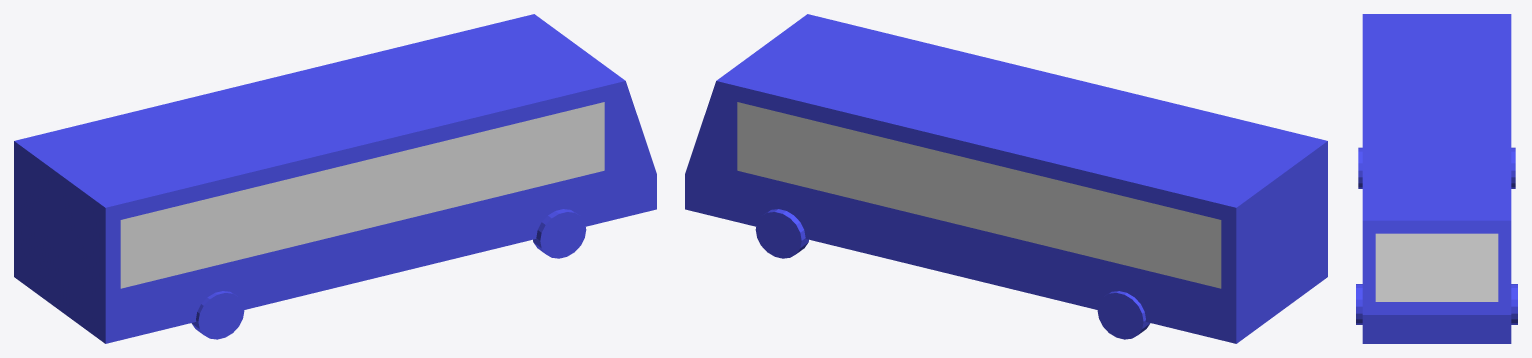
Rendered from bus2.gltf.
The picture shows the model from 3 angles, left to right: view 1: azimuth 30°, elevation 25°; view 2: azimuth 150°, elevation 25°; view 3: azimuth 270°, elevation 25°; orthographic projection. The views are drawn at different scales.
Parts seen in each view (by area): view 1: Car_12; view 2: Car_12; view 3: Car_12.
Part boxes in pixels (x1=…): Car_12: x1=14, y1=14, x2=656, y2=343; Car_12: x1=685, y1=14, x2=1327, y2=343; Car_12: x1=1356, y1=14, x2=1517, y2=343.
Bounding box in the file's own units: 181 × 49.35 × 56.34.
